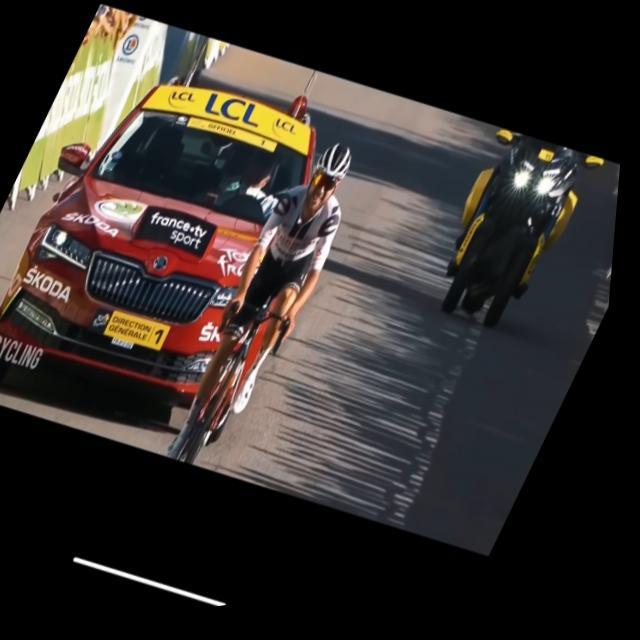Helmet: (293, 132, 360, 218)
